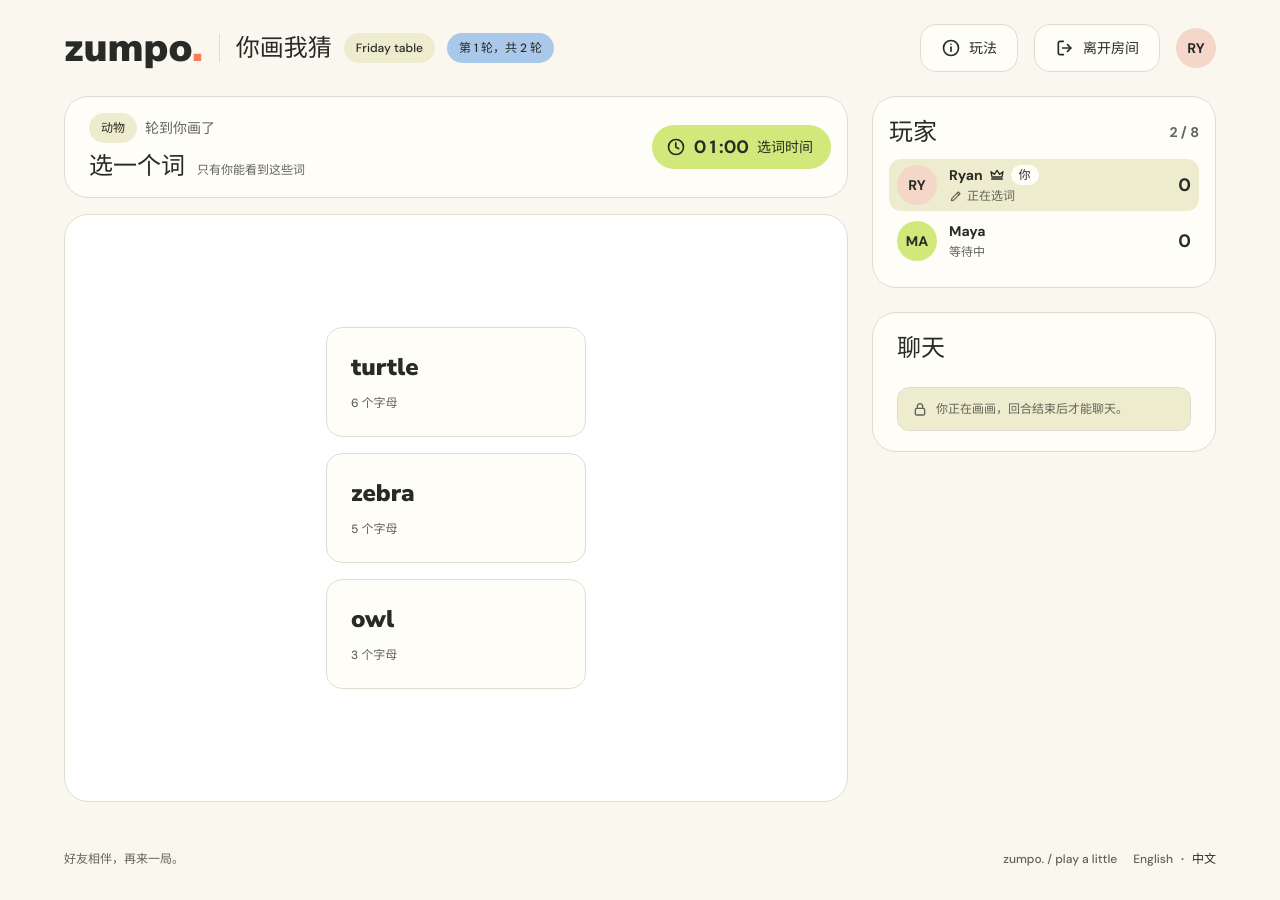
Scenario: a Draw & Guess room › translates the turn and chat in Chinese while keeping the word choices English
Expected: the text "选一个词" is shown, x1=89 y1=151 x2=185 y2=181
Expected: the text "动物" is shown, x1=101 y1=119 x2=125 y2=137
Click the button "zebra 5 个字母": click(383, 493) x1=326 y1=453 x2=586 y2=563
(page scrolled)
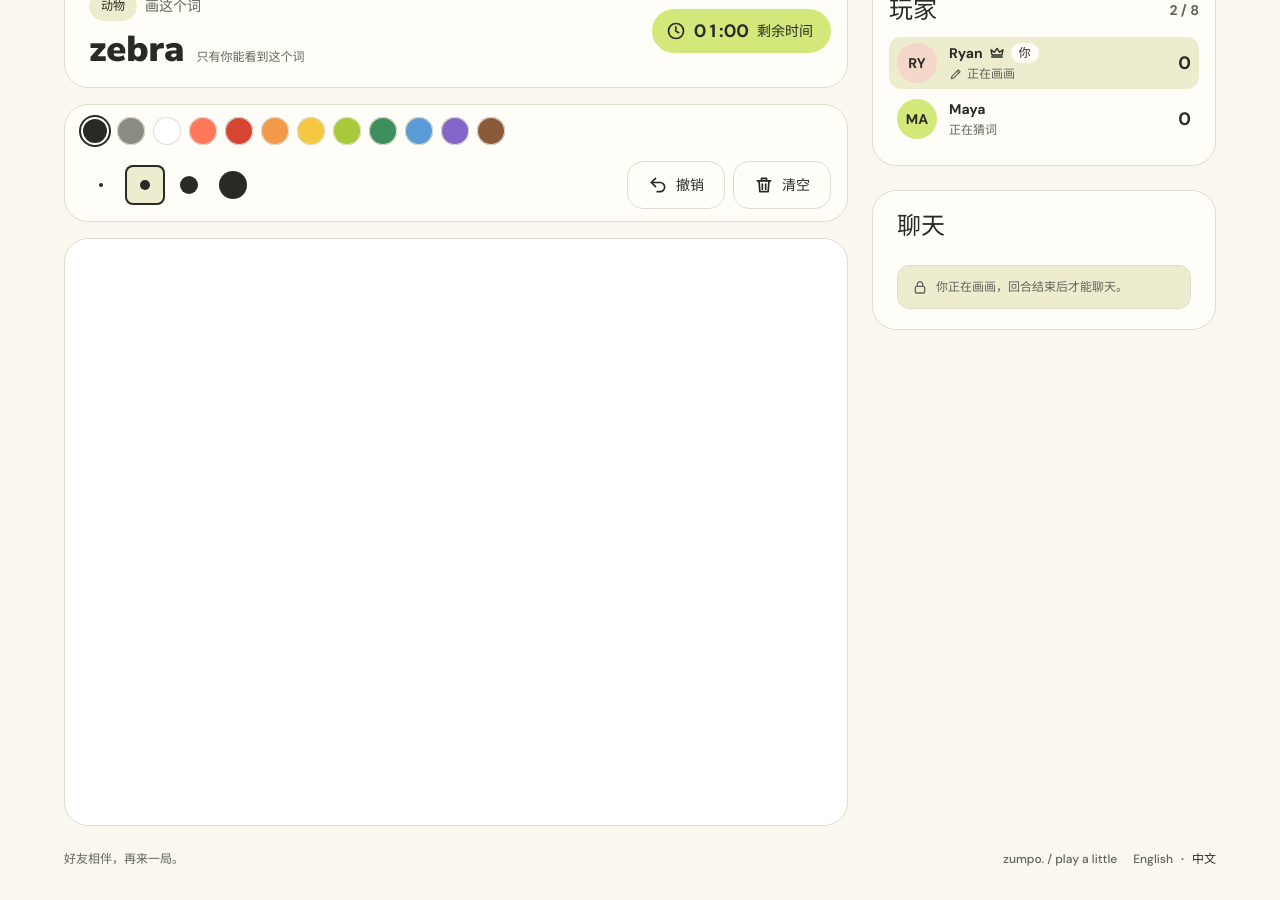
Result: the text "zebra" is shown at x1=89 y1=29 x2=184 y2=71
Result: the picture named "绘画画布" is shown at x1=65 y1=239 x2=847 y2=825
